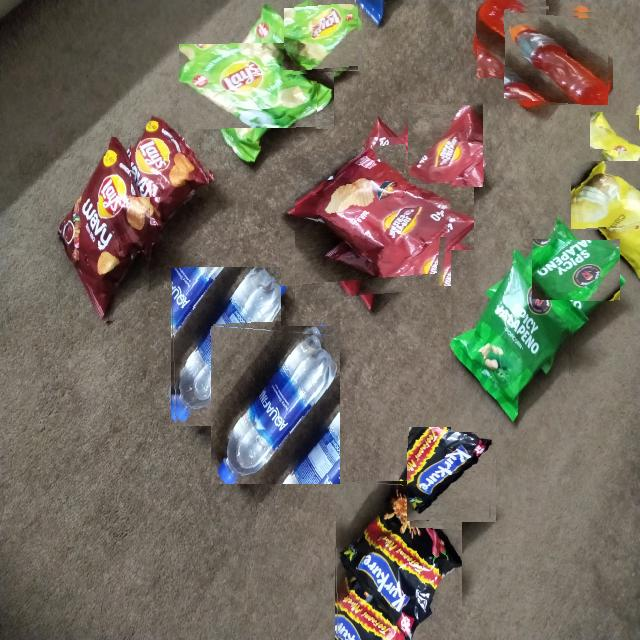Plastic: (295, 137, 458, 302), (452, 250, 570, 432), (210, 325, 340, 484), (334, 480, 462, 640), (56, 137, 152, 325), (170, 267, 281, 426), (196, 26, 318, 147), (510, 6, 608, 105), (407, 429, 498, 521), (131, 114, 213, 197), (406, 105, 485, 184), (471, 0, 549, 74), (539, 232, 614, 307), (287, 4, 358, 75), (572, 161, 640, 231), (596, 105, 640, 155)
